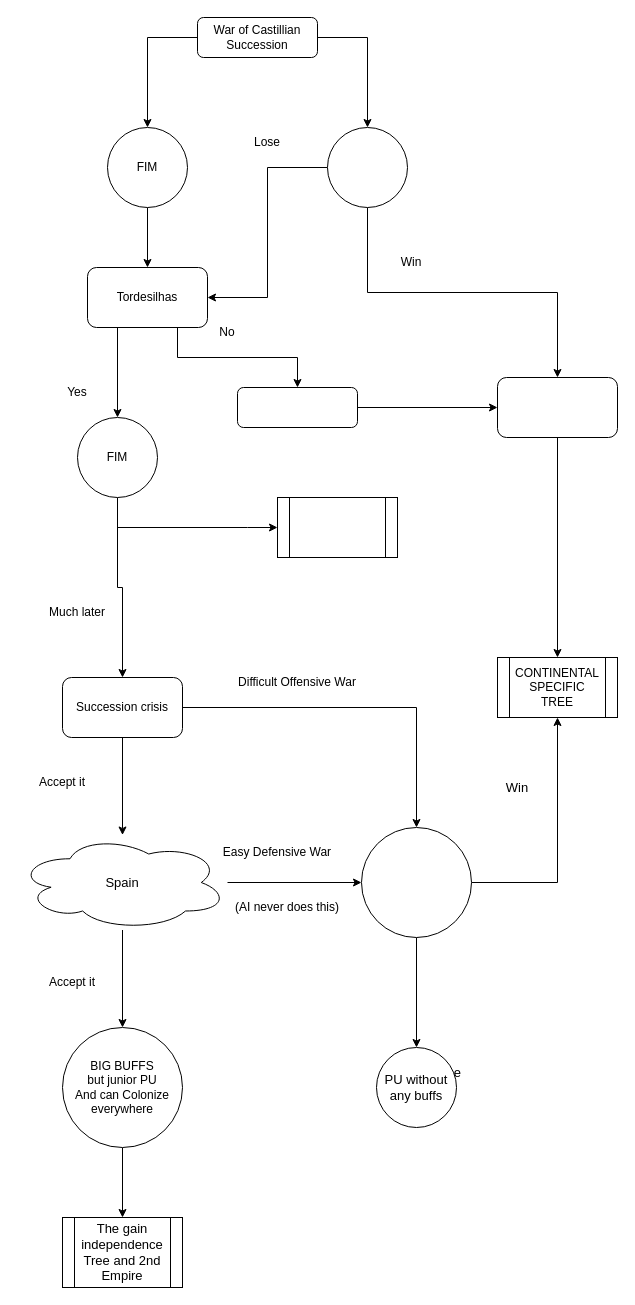
This 635x1305 diagram has some shape labels left out. The centre of each missing label's shape, as x and y in pixels:
"AFRICA + ASIA SPECIFIC TREE" goes at (x=337, y=527).
"Iberian Union" goes at (x=557, y=407).
"Independence End friendship" goes at (x=416, y=882).
"WAR" goes at (x=367, y=167).
"War of Portuguese agression" goes at (x=297, y=407).
